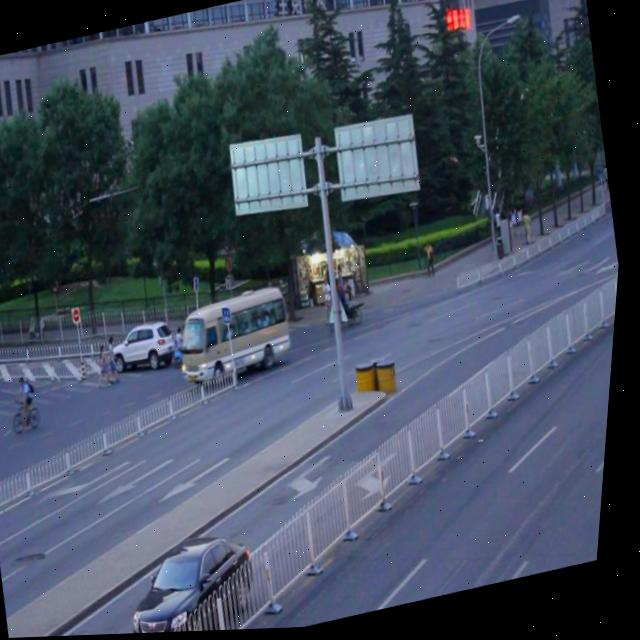car: (130, 528, 278, 635), (111, 317, 185, 380)
truck: (177, 288, 303, 388)
